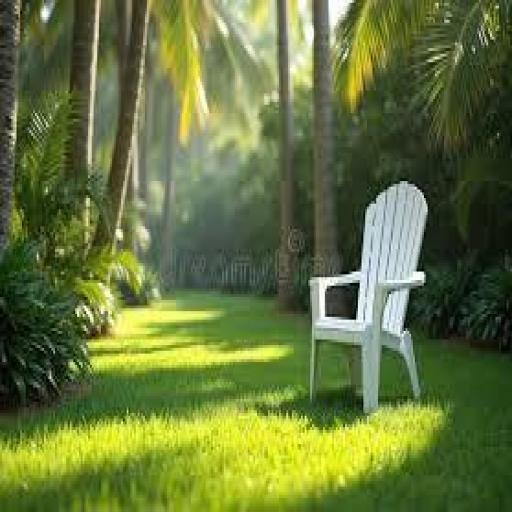chair: (304, 172, 430, 424)
